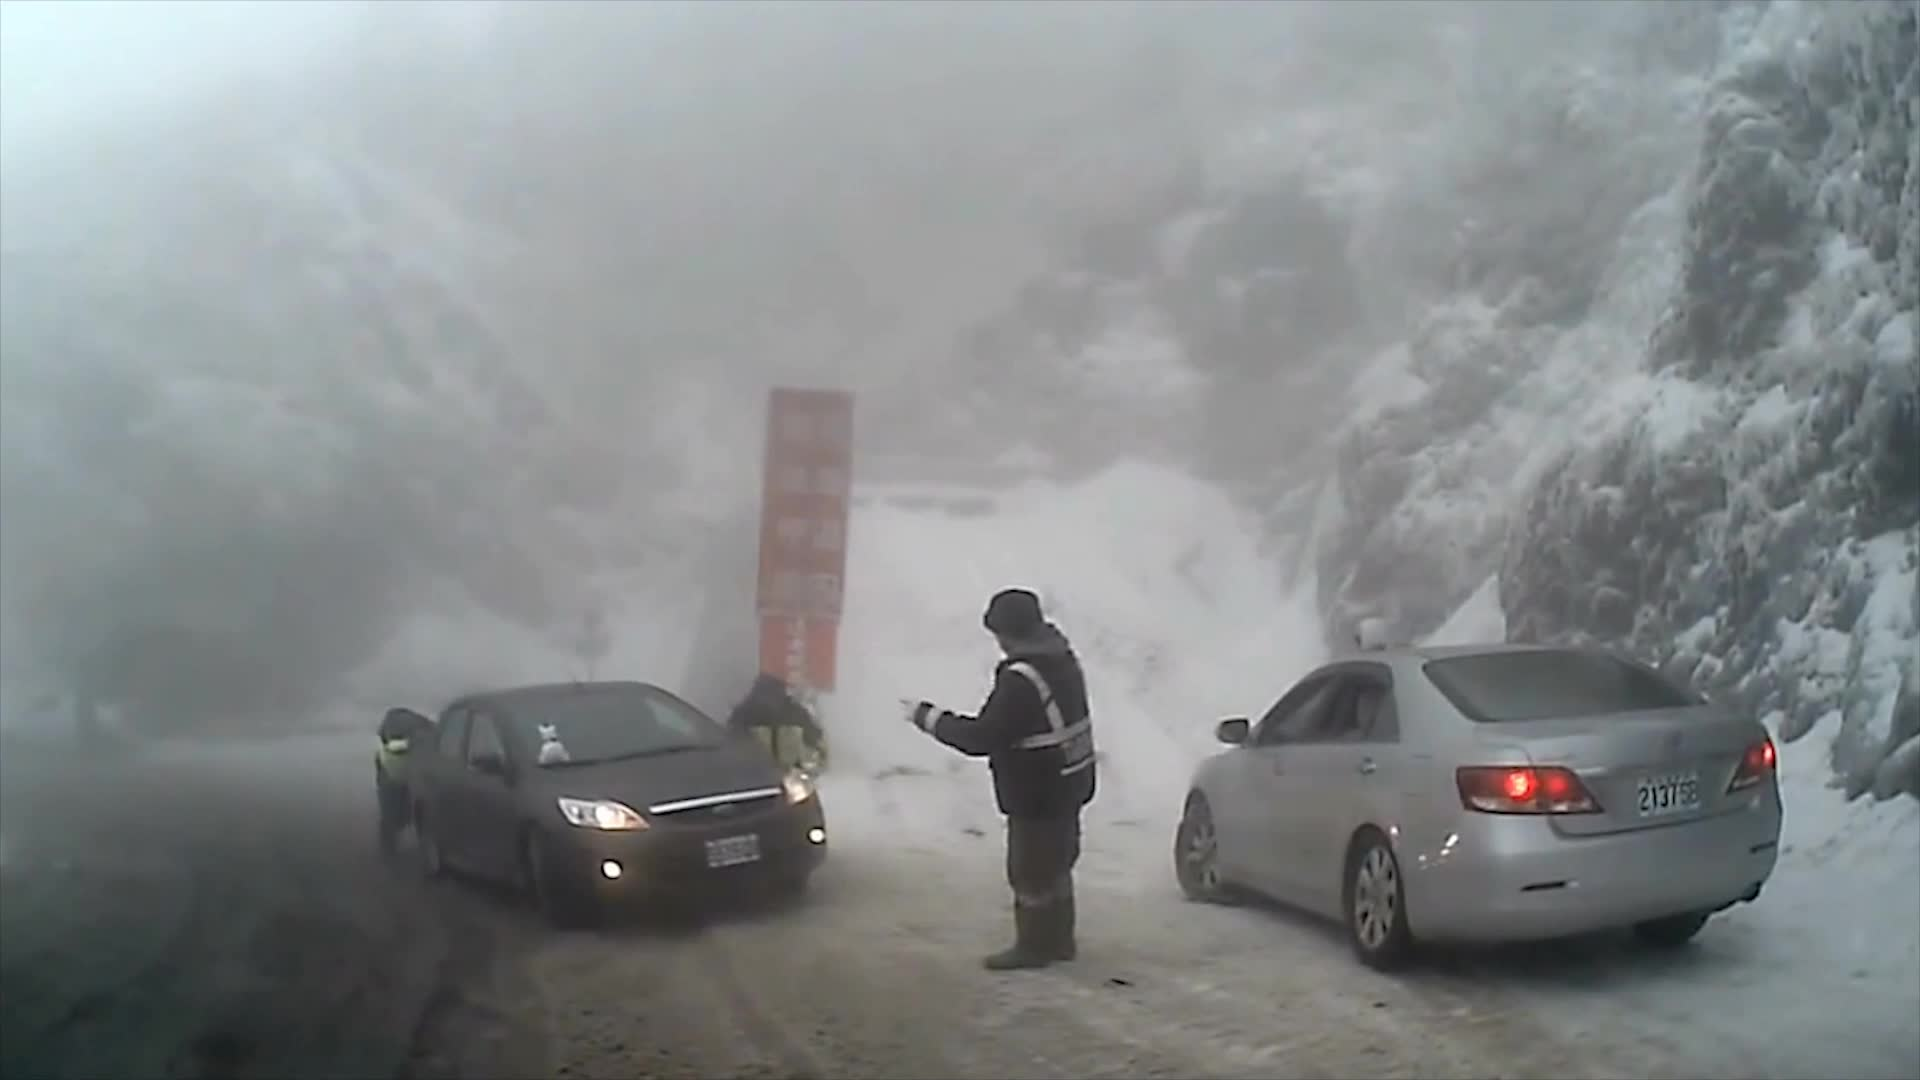pedestrian: (904, 590, 1101, 973), (722, 668, 836, 853), (1345, 619, 1416, 827), (374, 706, 451, 854)
vehicle: (1172, 644, 1782, 972), (403, 678, 824, 930)
